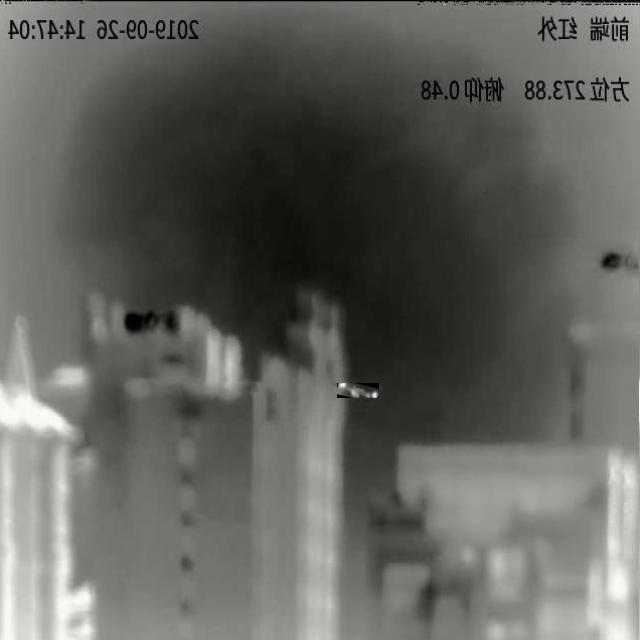drone: (338, 383, 378, 398)
